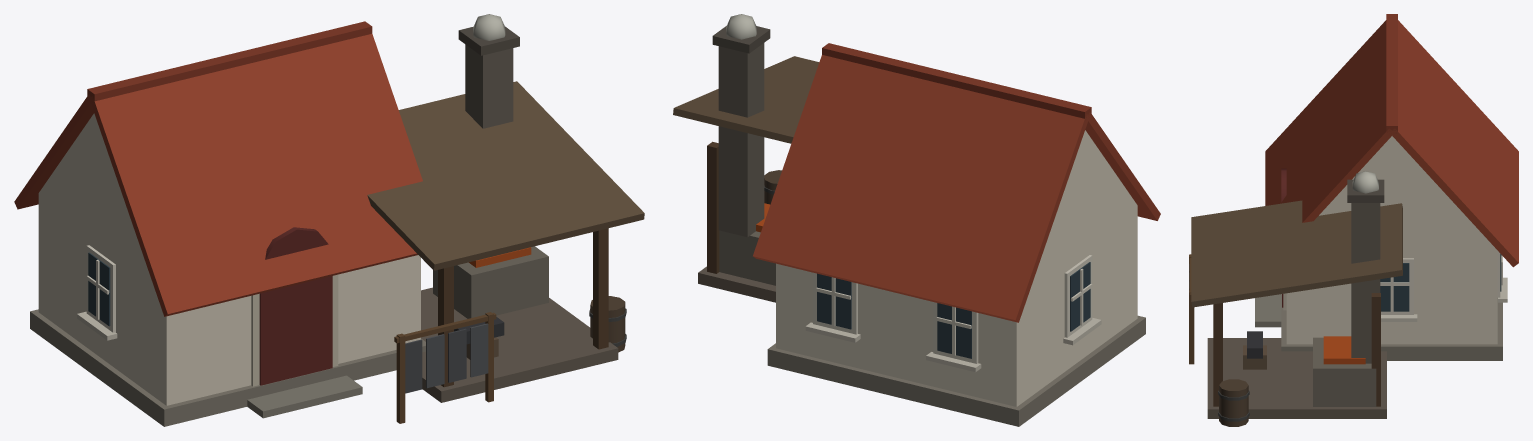
Rendered from procedural_smith@4.glb.
The picture shows the model from 3 angles, left to right: view 1: azimuth 30°, elevation 25°; view 2: azimuth 150°, elevation 25°; view 3: azimuth 270°, elevation 25°; orthographic projection. The views are drawn at different scales.
Visible parts, largest first — view 1: part_0, part_4; view 2: part_0, part_4; view 3: part_0, part_4.
Part boxes in pixels (x1,y1,x2,y2): part_0: (14,21,644,426); part_4: (473,14,505,40); part_0: (673,26,1160,426); part_4: (726,14,756,39); part_0: (1189,14,1518,426); part_4: (1352,171,1378,193).
Size of the model in its own units: 7.9 by 4.97 by 6.25.
